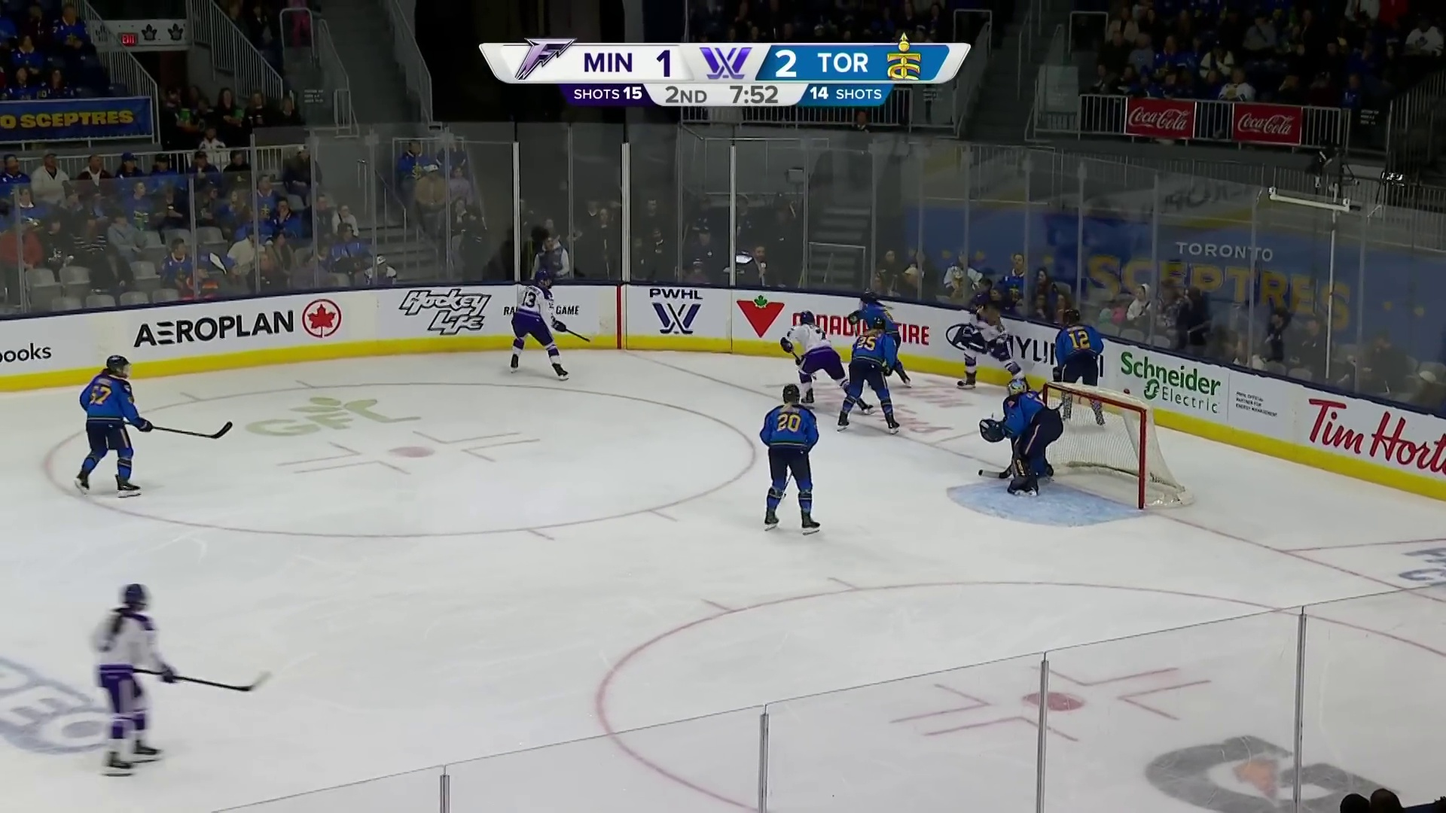goaltender: (978, 378, 1066, 495)
player: (91, 582, 182, 778), (75, 355, 154, 497), (760, 383, 824, 536), (836, 316, 902, 436), (509, 268, 572, 384), (1051, 308, 1107, 427), (956, 291, 1023, 388), (780, 309, 848, 404)
